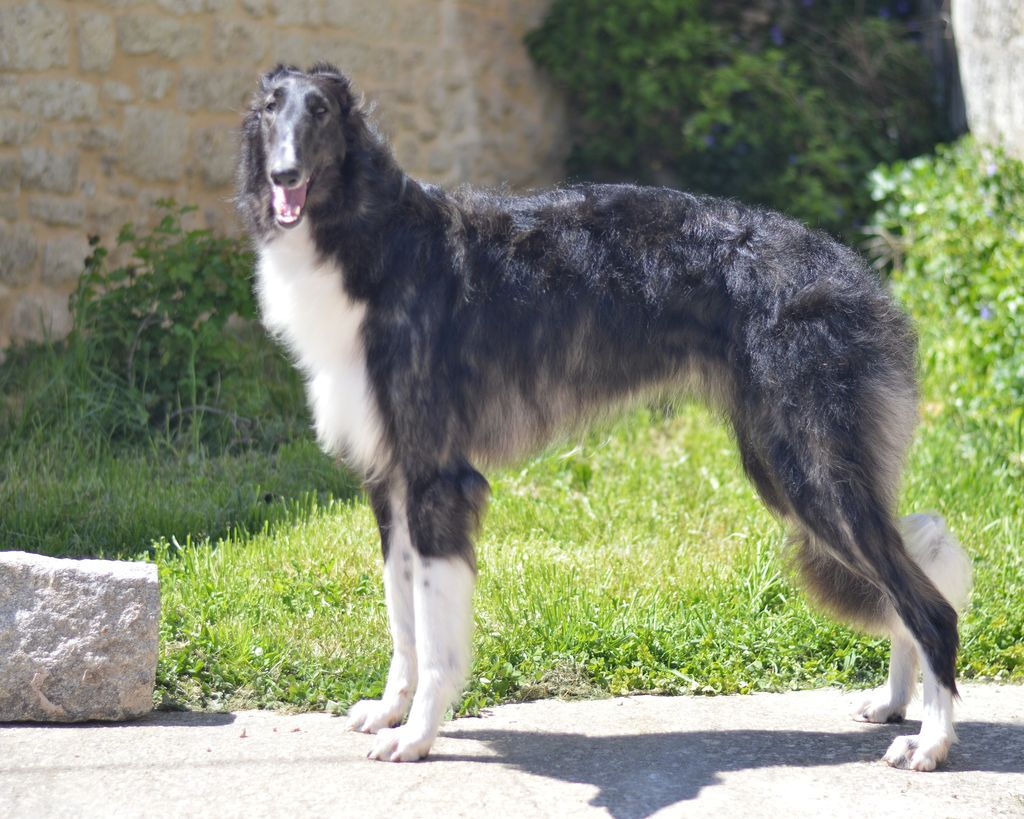borzoi: (237, 47, 987, 773)
